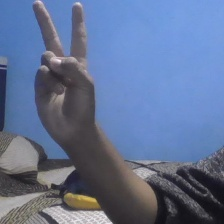V: (23, 1, 102, 145)
